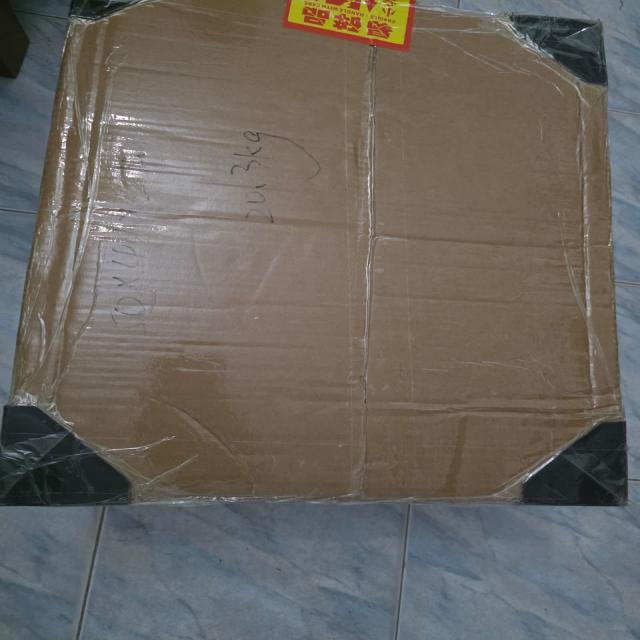carton_box: (6, 0, 640, 525)
